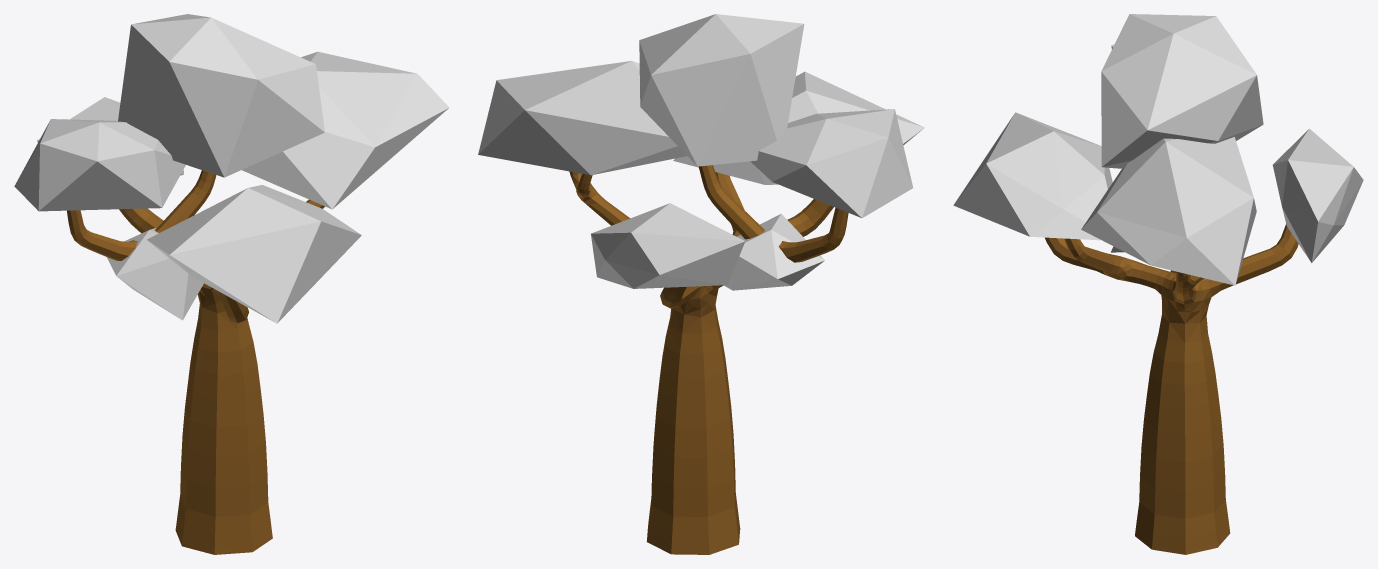
File: TREE3.fbx
3 views of the same model, side by side, from view 1: azimuth 30°, elevation 25°; view 2: azimuth 150°, elevation 25°; view 3: azimuth 270°, elevation 25° (orthographic). The views are drawn at different scales.
Parts seen in each view (by area): view 1: Icosphere.008, Plane, Icosphere.005, Icosphere.001, Icosphere.006, Icosphere.003, Icosphere.007; view 2: Plane, Icosphere.008, Icosphere.001, Icosphere.006, Icosphere.007, Icosphere.003, Icosphere.005; view 3: Plane, Icosphere.008, Icosphere.001, Icosphere.005, Icosphere.007.
Part boxes in pixels (x1,y1,x2,y2): Icosphere.008: (118,14,324,177); Plane: (67,170,324,554); Icosphere.005: (147,185,361,323); Icosphere.001: (242,51,449,209); Icosphere.006: (14,119,185,211); Icosphere.003: (106,228,203,320); Icosphere.007: (37,97,183,175); Plane: (569,165,848,554); Icosphere.008: (639,14,804,166); Icosphere.001: (478,60,686,175); Icosphere.006: (750,109,913,217); Icosphere.007: (591,203,745,288); Icosphere.003: (724,213,824,290); Icosphere.005: (673,71,924,184); Plane: (1045,224,1298,554); Icosphere.008: (1101,14,1263,168); Icosphere.001: (1081,137,1256,285); Icosphere.005: (953,112,1112,240); Icosphere.007: (1272,128,1363,262).
Bounding box in the file's own units: 1279 × 1559 × 1175.
